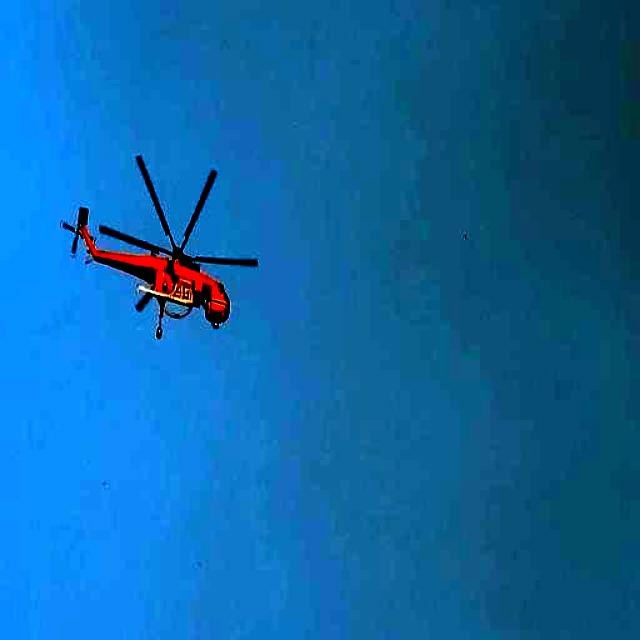drone: (56, 150, 261, 342)
